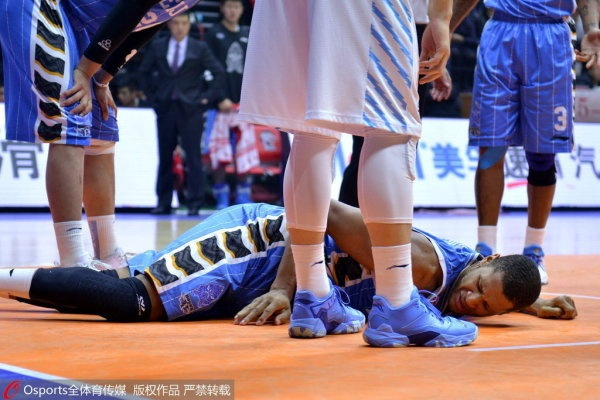falling: (6, 189, 581, 339)
